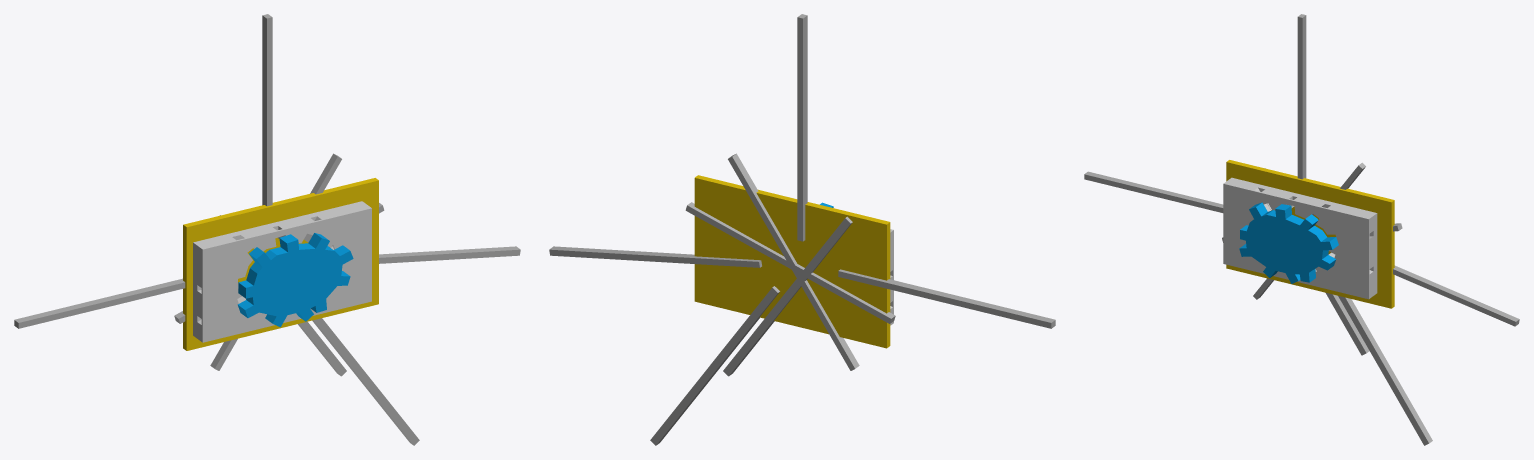
Rendered from gate_v2.obj.
3 renders of one model, left to right at view 1: azimuth 30°, elevation 25°; view 2: azimuth 150°, elevation 25°; view 3: azimuth 330°, elevation 25°, orthographic. The views are drawn at different scales.
Visible parts, largest first — view 1: Object.8, Object.1, Object.2, Object.4, Object.6, Object.3, Object.7, Object.5; view 2: Object.2, Object.3, Object.4, Object.6, Object.5, Object.7; view 3: Object.8, Object.2, Object.1, Object.7, Object.4, Object.6, Object.5, Object.3.
Boxes of the visible parts, x1=… form: Object.8: x1=193, y1=201, x2=371, y2=342; Object.1: x1=237, y1=233, x2=353, y2=327; Object.2: x1=183, y1=178, x2=378, y2=350; Object.4: x1=262, y1=14, x2=272, y2=206; Object.6: x1=14, y1=278, x2=185, y2=328; Object.3: x1=174, y1=153, x2=384, y2=376; Object.7: x1=312, y1=318, x2=419, y2=445; Object.5: x1=379, y1=246, x2=520, y2=263; Object.2: x1=694, y1=175, x2=890, y2=348; Object.3: x1=685, y1=153, x2=895, y2=376; Object.4: x1=797, y1=14, x2=807, y2=241; Object.6: x1=838, y1=269, x2=1055, y2=328; Object.5: x1=549, y1=246, x2=761, y2=267; Object.7: x1=650, y1=286, x2=779, y2=445; Object.8: x1=1223, y1=177, x2=1377, y2=299; Object.2: x1=1226, y1=160, x2=1394, y2=308; Object.1: x1=1239, y1=202, x2=1338, y2=283; Object.7: x1=1338, y1=296, x2=1432, y2=445; Object.4: x1=1297, y1=14, x2=1306, y2=179; Object.6: x1=1084, y1=171, x2=1223, y2=212; Object.5: x1=1393, y1=265, x2=1519, y2=326; Object.3: x1=1222, y1=162, x2=1402, y2=355.
Size of the model in its own units: 750 by 661 by 71.26.
